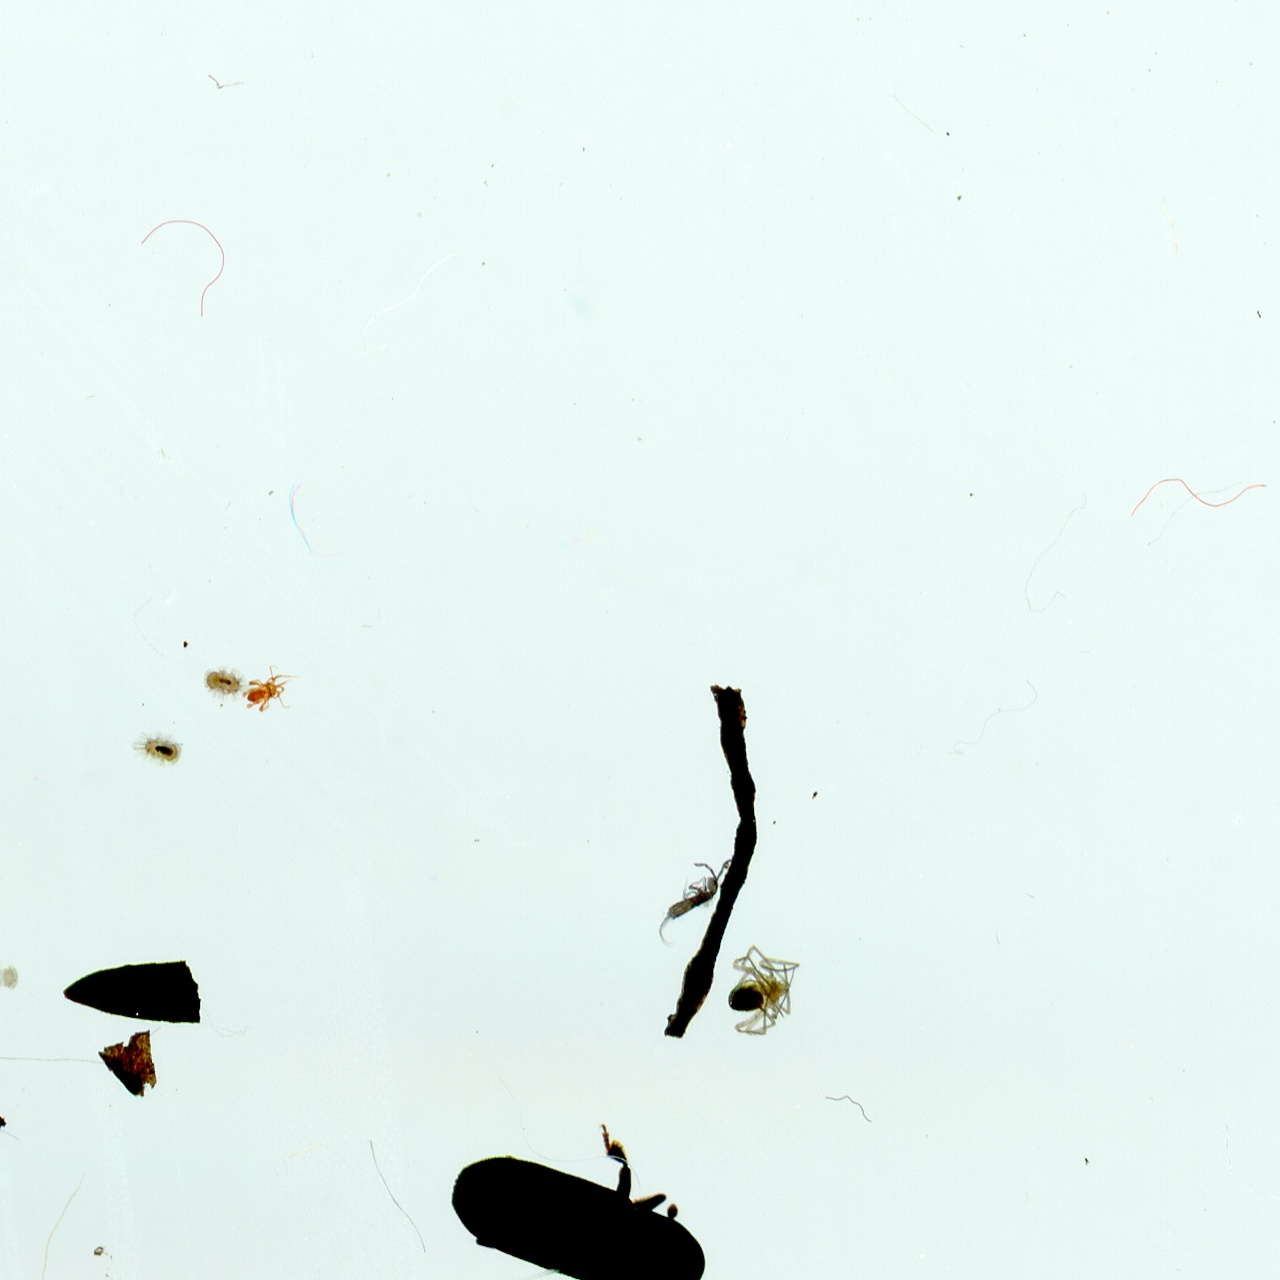arthropod: (450, 1123, 706, 1280), (656, 856, 733, 946), (726, 945, 799, 1034), (243, 662, 293, 715), (134, 729, 185, 769), (200, 663, 243, 699), (0, 958, 19, 993)
